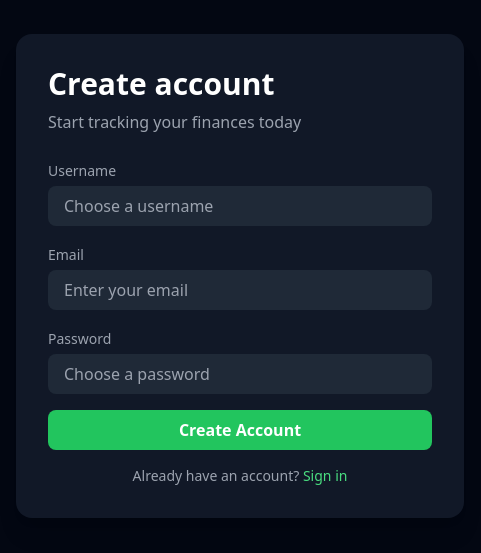
Scenario: Register › shows an error message when registration fails
Type "existinguser" into the field with placeholder "Choose a username".
click(240, 206); type("existinguser")  # box [48,186,432,226]
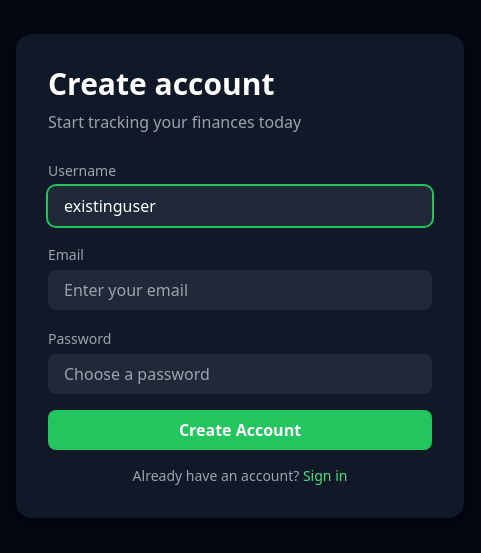
Type "existing@example.com" into the field with placeholder "Enter your email".
click(240, 290); type("existing@example.com")  # box [48,270,432,310]
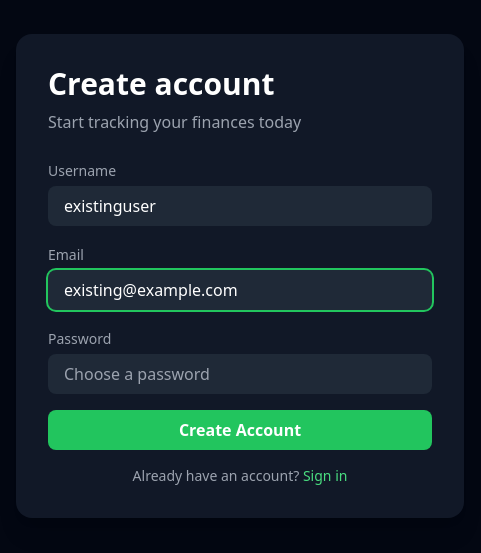
Type "somepass" into the password field with placeholder "Choose a password".
click(240, 374); type("somepass")  # box [48,354,432,394]
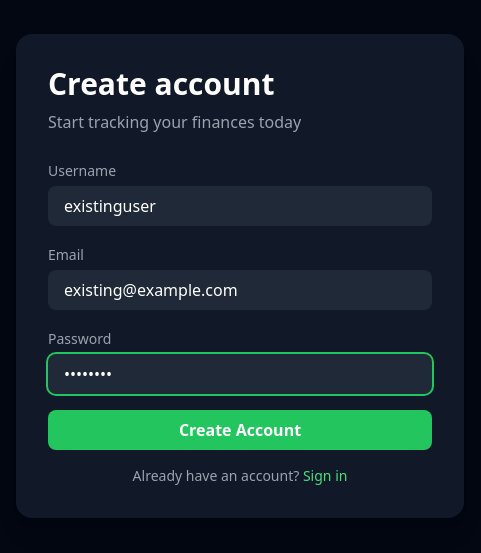
Click the button "Create Account".
click(240, 430)  # box [48,410,432,450]
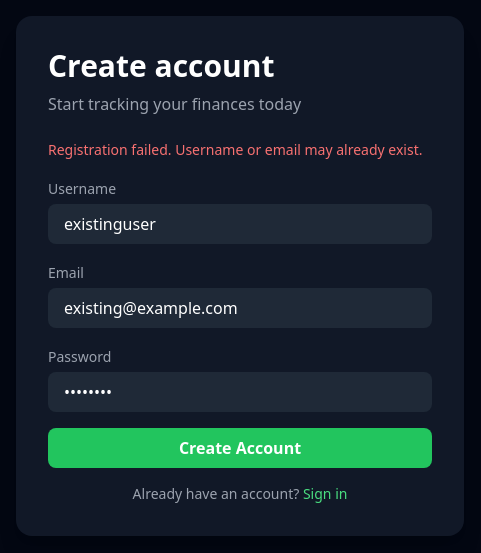
Check: the text "Registration failed. Username or email may already exist." is shown, box [48,140,432,160]
